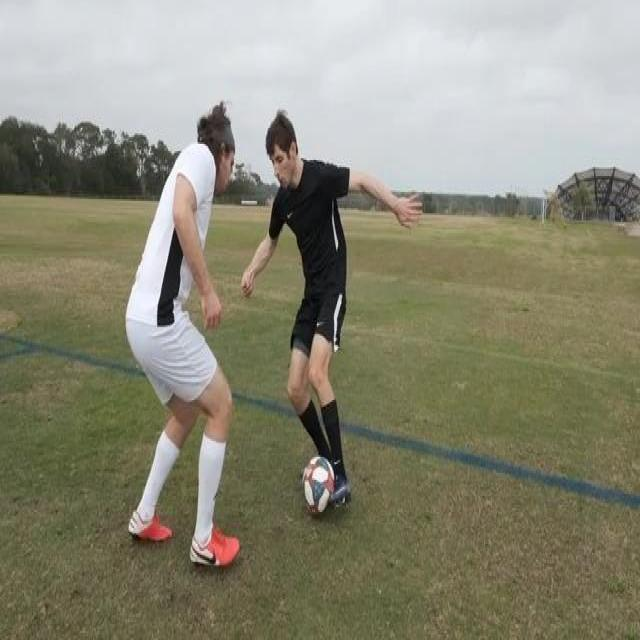Soccer Ball: (302, 457, 336, 515)
